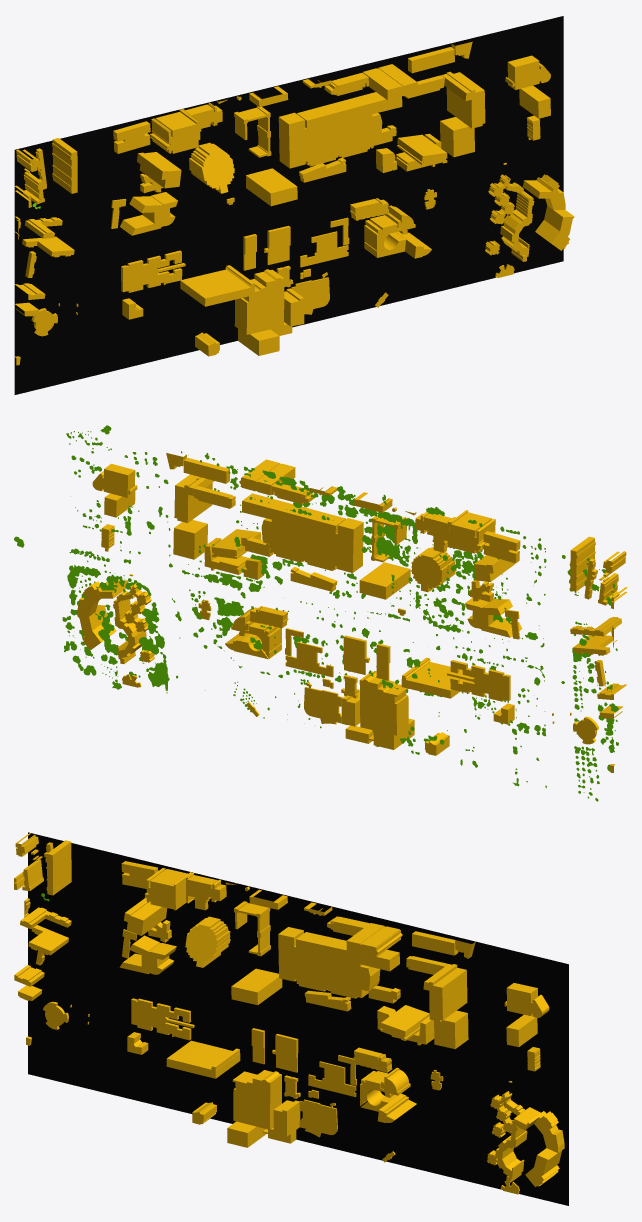
The model's file is existing_buildings_06.glb.
3 renders of one model, top to bottom at view 1: azimuth 30°, elevation 25°; view 2: azimuth 150°, elevation 25°; view 3: azimuth 330°, elevation 25°, orthographic.
Parts seen in each view (by area): view 1: Layer 04, existing_building, existing_building - Copy; view 2: existing_building, treesurface, existing_building - Copy; view 3: Layer 04, existing_building, existing_building - Copy.
Part boxes in pixels (x1,y1,x2,y2): Layer 04: (14,16,563,394); existing_building: (15,47,574,365); existing_building - Copy: (22,41,565,336); existing_building: (78,458,627,772); treesurface: (14,425,618,801); existing_building - Copy: (77,453,610,744); Layer 04: (28,832,568,1205); existing_building: (14,833,561,1187); existing_building - Copy: (31,842,564,1194).
Size of the model in its own units: 1109 by 458 by 78.19.
